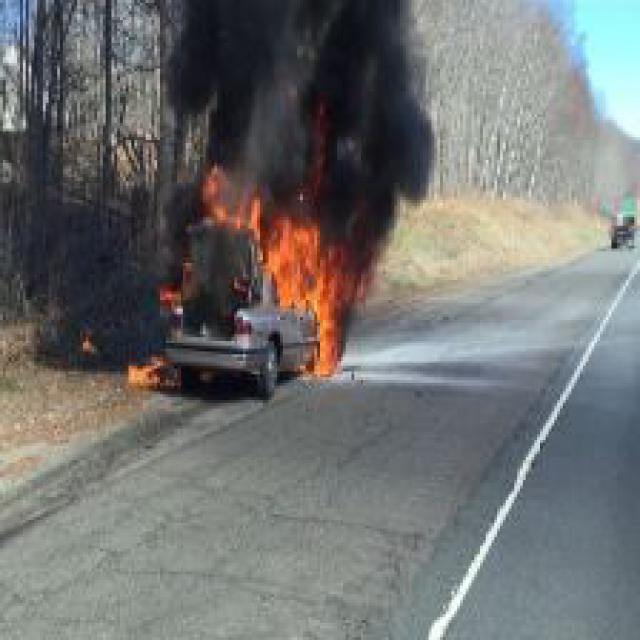fire: (200, 157, 357, 389)
